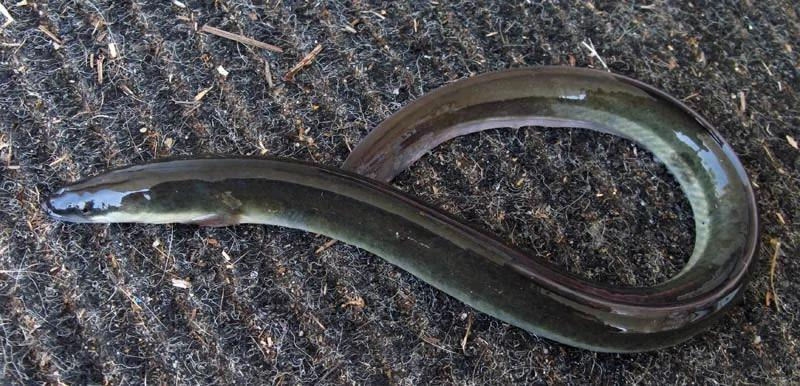Freshwater Eel: (46, 58, 757, 357)
